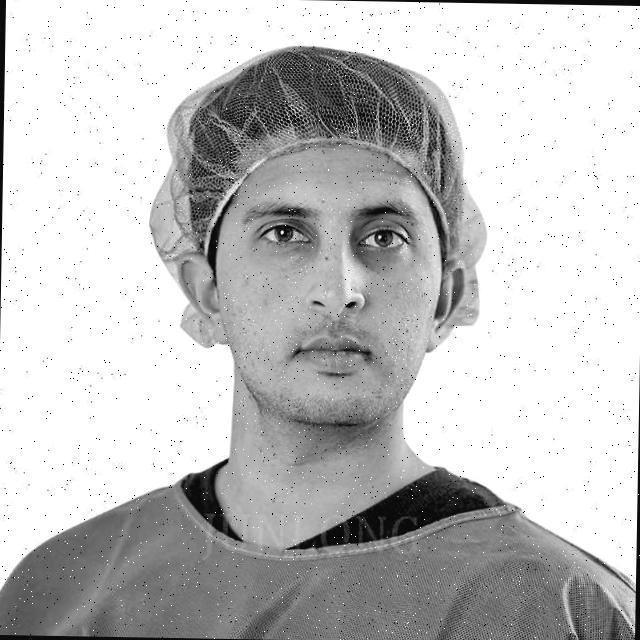gloves: (172, 42, 488, 230)
